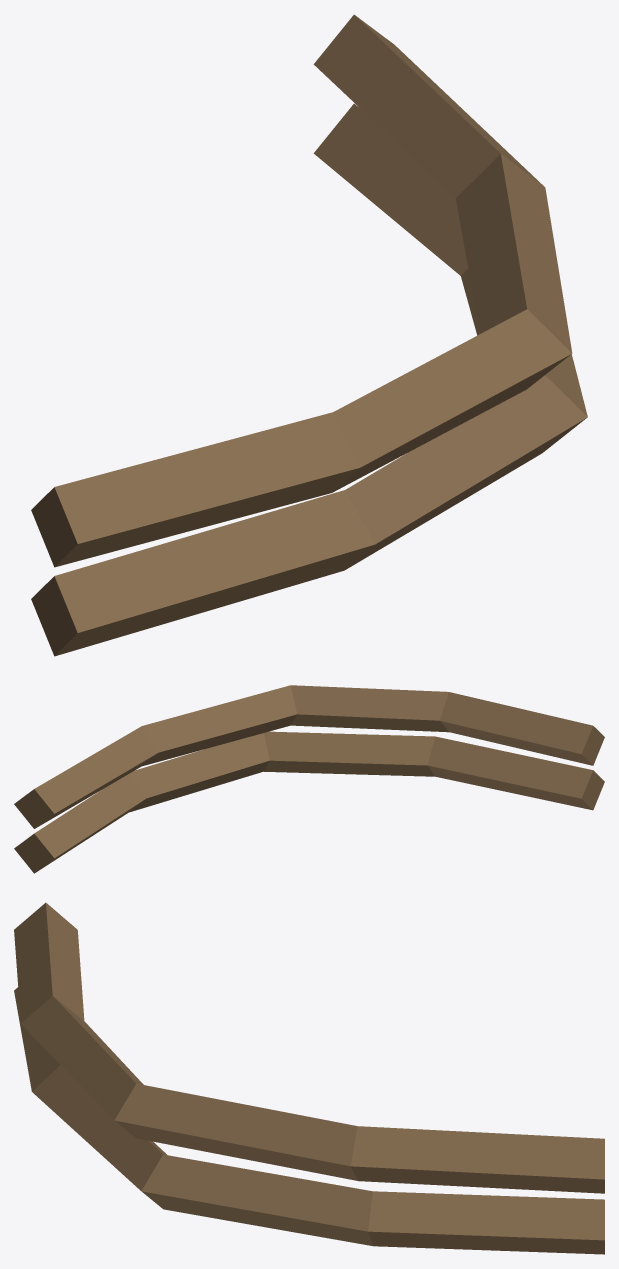
The model's file is SM_Prop_Wires_Corner_03.fbx.
The picture shows the model from 3 angles, top to bottom: view 1: azimuth 30°, elevation 25°; view 2: azimuth 150°, elevation 25°; view 3: azimuth 270°, elevation 25°; orthographic projection. The views are drawn at different scales.
Parts seen in each view (by area): view 1: SM_Prop_Wires_Corner_03; view 2: SM_Prop_Wires_Corner_03; view 3: SM_Prop_Wires_Corner_03.
Boxes of the visible parts, x1,y1,x2,y2 form: SM_Prop_Wires_Corner_03: (31,14,587,656); SM_Prop_Wires_Corner_03: (14,685,604,873); SM_Prop_Wires_Corner_03: (14,902,604,1254).
Bounding box in the file's own units: 26.43 × 5.78 × 26.43.
